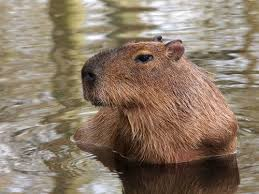capivara: (73, 34, 242, 166)
